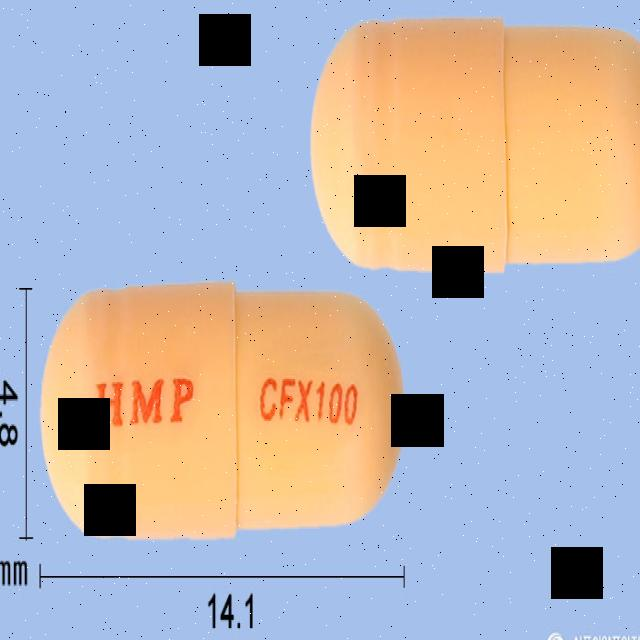Cefix Cap: (37, 277, 408, 546)
